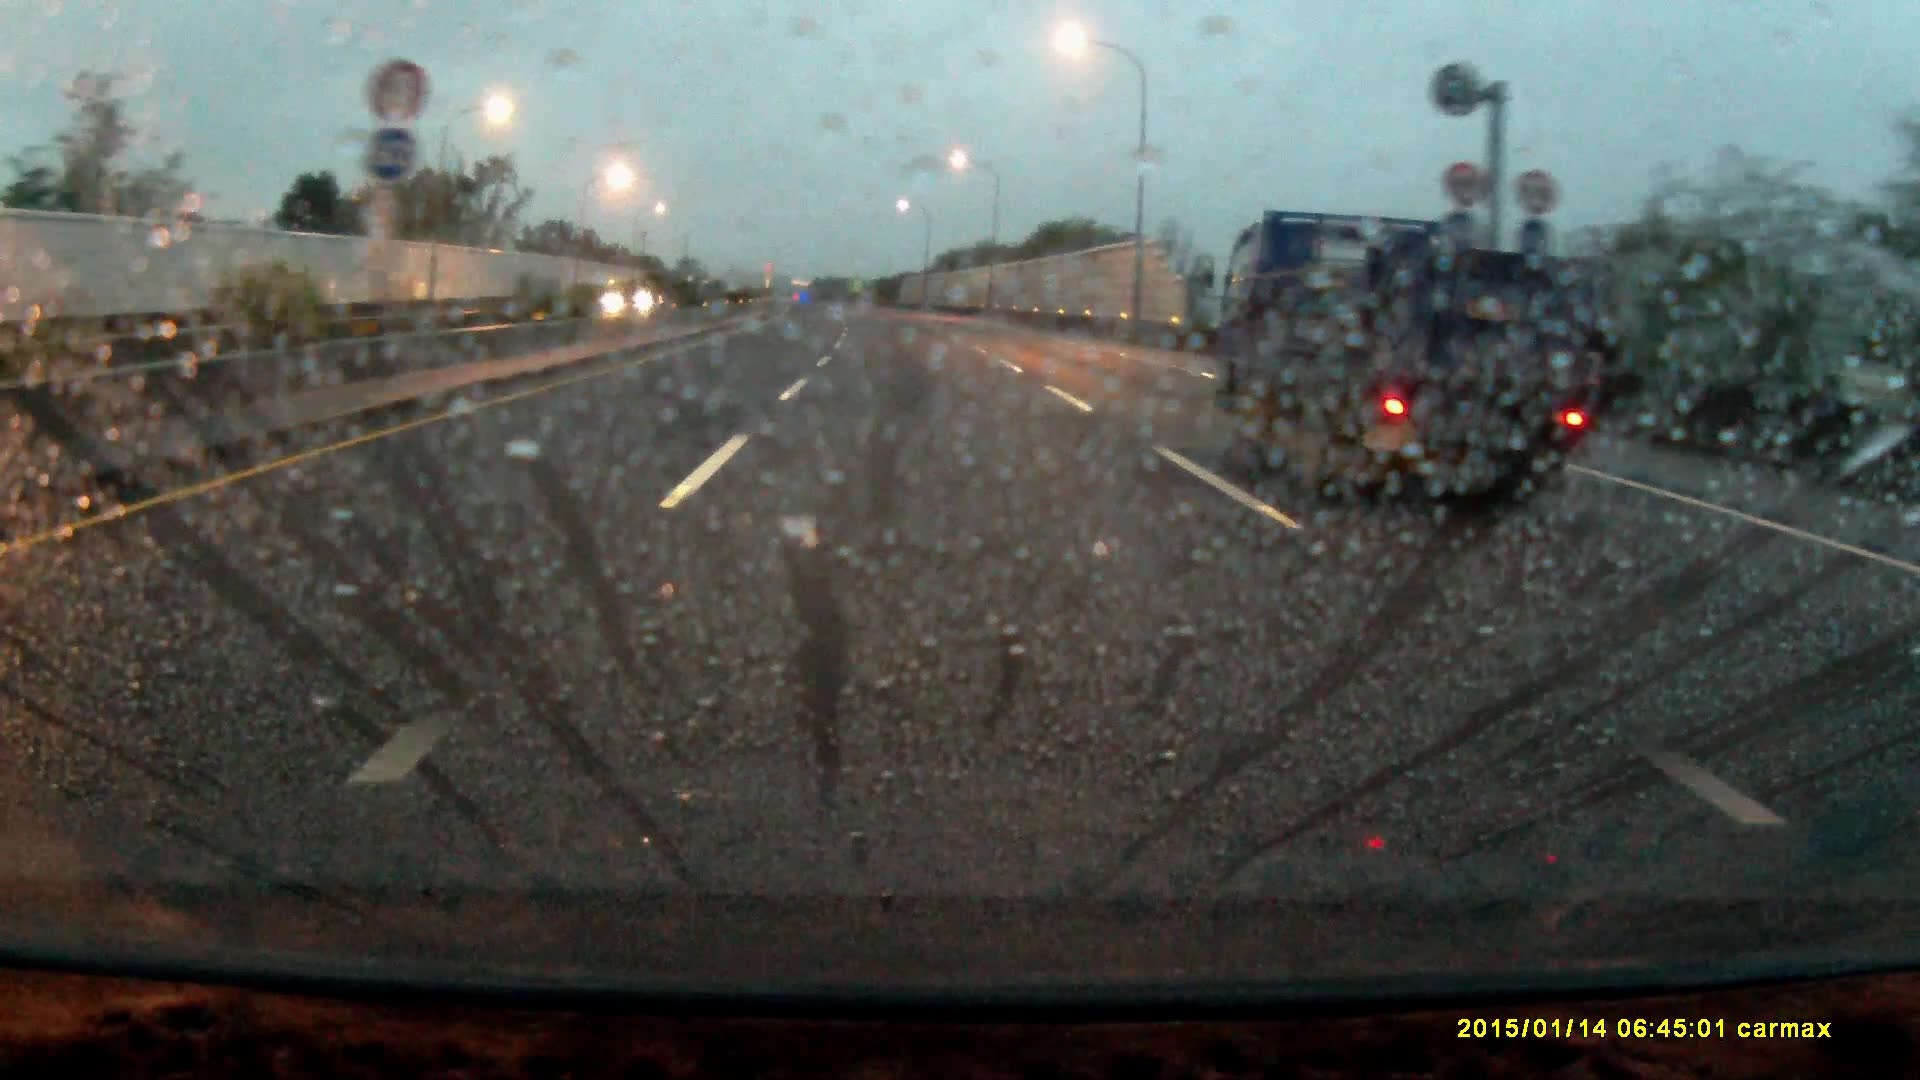vehicle: (1217, 203, 1627, 531)
